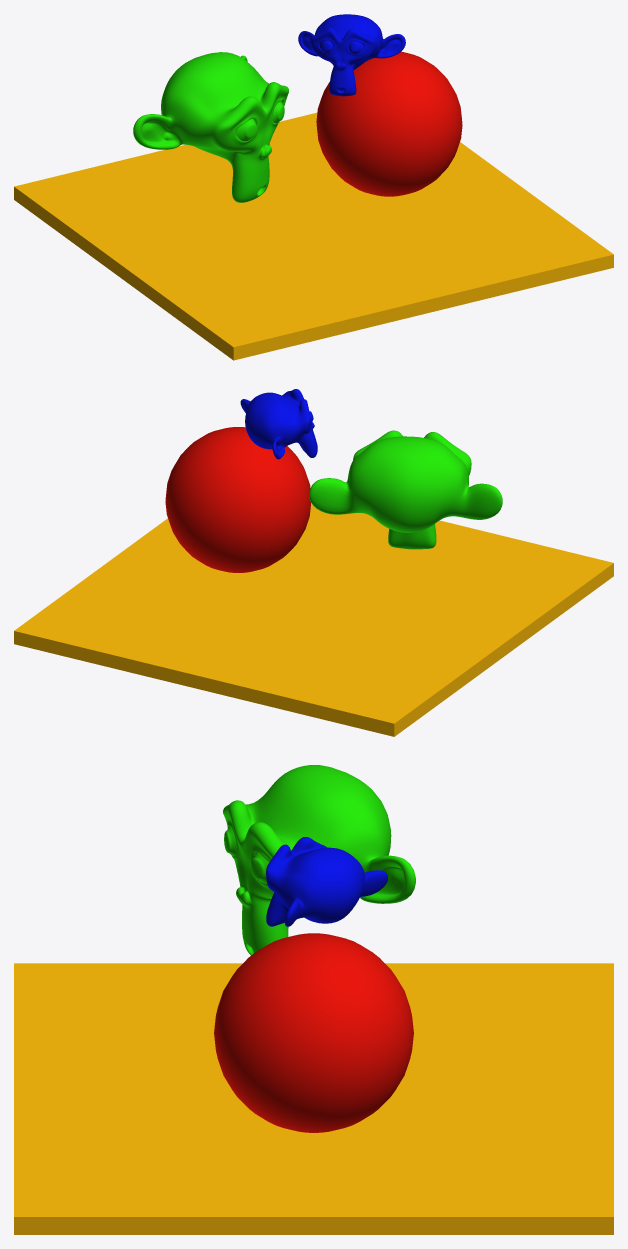
The model's file is testscene.glb.
The picture shows the model from 3 angles, top to bottom: view 1: azimuth 30°, elevation 25°; view 2: azimuth 150°, elevation 25°; view 3: azimuth 270°, elevation 25°; orthographic projection. The views are drawn at different scales.
Visible parts, largest first — view 1: Cube, Sphere, Suzanne, Suzanne2; view 2: Cube, Sphere, Suzanne, Suzanne2; view 3: Cube, Sphere, Suzanne, Suzanne2.
Boxes of the visible parts, bbox=[...] form: Cube: bbox=[14, 112, 613, 360]; Sphere: bbox=[316, 51, 462, 196]; Suzanne: bbox=[133, 52, 288, 202]; Suzanne2: bbox=[298, 14, 405, 96]; Cube: bbox=[14, 503, 613, 736]; Sphere: bbox=[165, 427, 310, 572]; Suzanne: bbox=[309, 430, 502, 549]; Suzanne2: bbox=[240, 389, 317, 459]; Cube: bbox=[14, 963, 613, 1234]; Sphere: bbox=[214, 933, 413, 1132]; Suzanne: bbox=[223, 765, 415, 955]; Suzanne2: bbox=[266, 837, 387, 926].
Size of the model in its own units: 6 by 3.11 by 6.
